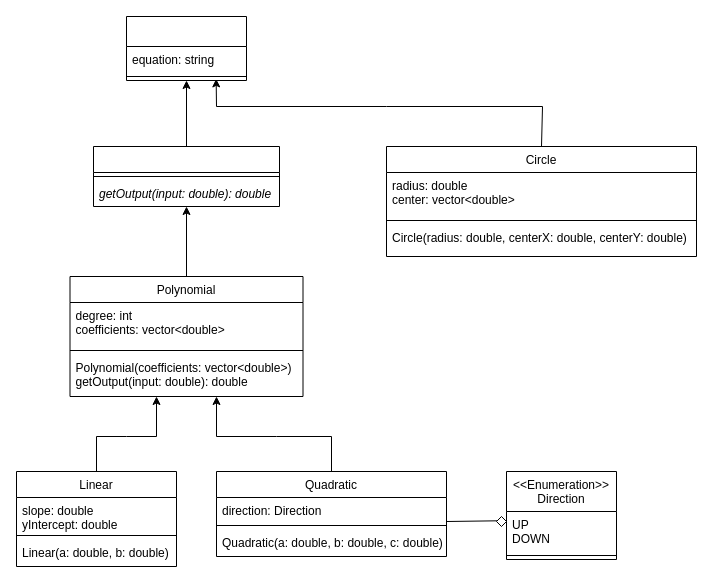
The diagram is 713 pixels wide and 583 high, and some of its shapes have lost their labels. Here are the shapes that lost their labels. From the top down, the box of each, then its label:
(126, 16, 246, 80): Relation
(92, 146, 280, 206): Function
